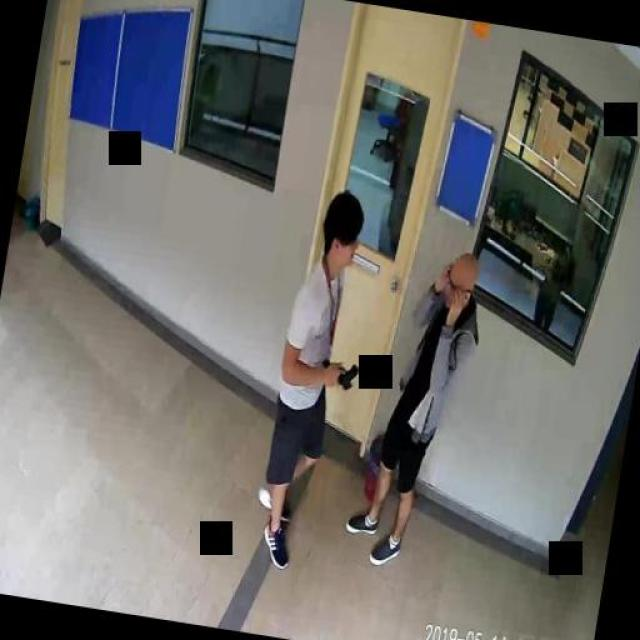gun: (317, 355, 358, 391)
